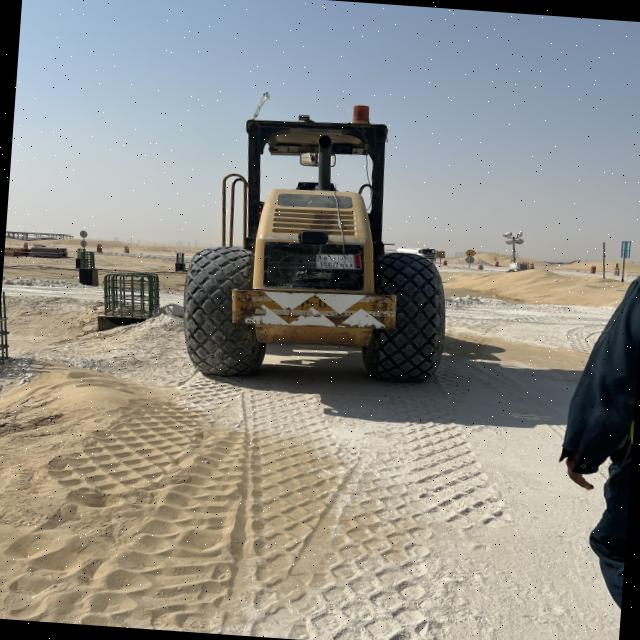Roller: (175, 89, 462, 400)
